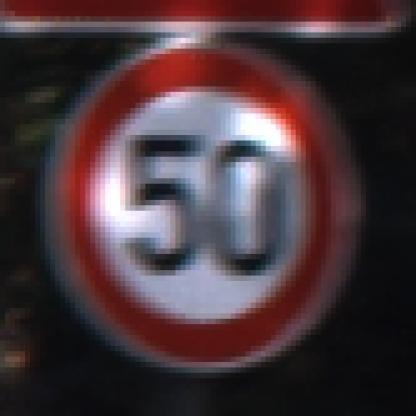Speed Limit -50-: (39, 51, 371, 387)
